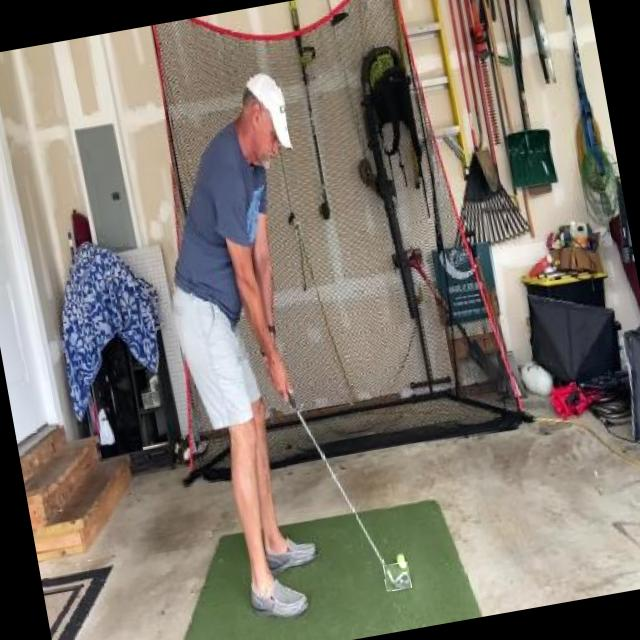club head: (382, 560, 412, 592)
